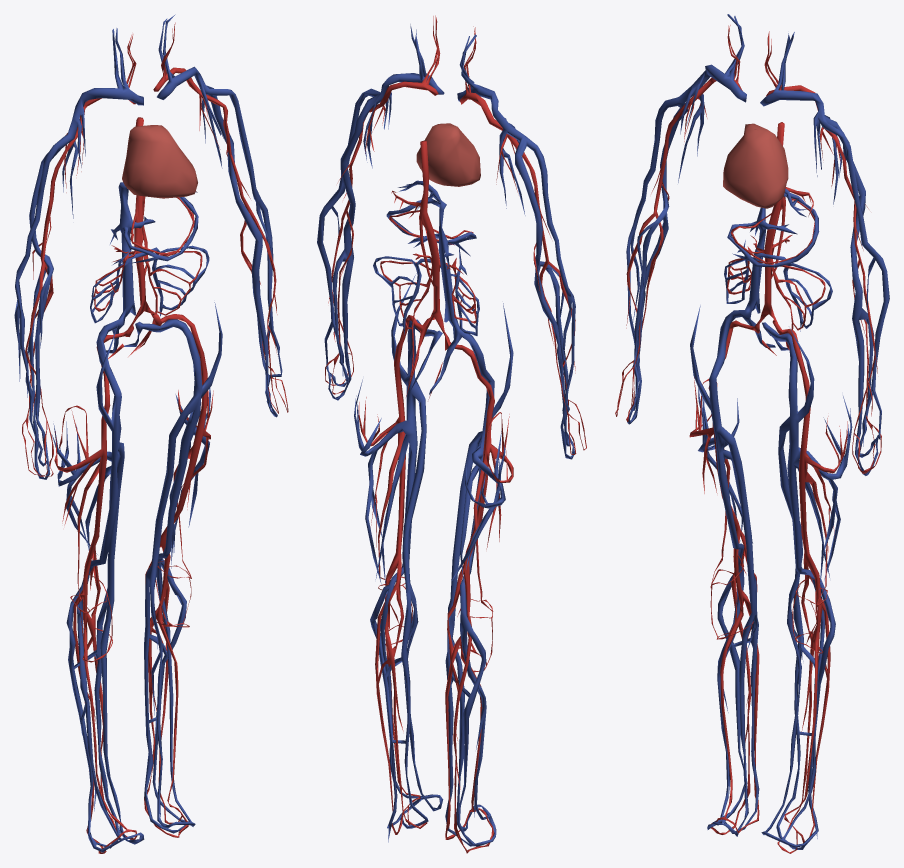
File: pediatric_child_10y_male.cardiovascular.LOD3.glb
3 views of the same model, side by side, from view 1: azimuth 30°, elevation 25°; view 2: azimuth 150°, elevation 25°; view 3: azimuth 330°, elevation 25° (orthographic).
Parts seen in each view (by area): view 1: PEDIATRIC.CHILD_10Y.MALE.CARDIOVASCULAR.BLOOD_IN_LARGE_VEINS, PEDIATRIC.CHILD_10Y.MALE.CARDIOVASCULAR.BLOOD_IN_LARGE_ARTER, PEDIATRIC.CHILD_10Y.MALE.CARDIOVASCULAR.HEART_WALL; view 2: PEDIATRIC.CHILD_10Y.MALE.CARDIOVASCULAR.BLOOD_IN_LARGE_VEINS, PEDIATRIC.CHILD_10Y.MALE.CARDIOVASCULAR.BLOOD_IN_LARGE_ARTER, PEDIATRIC.CHILD_10Y.MALE.CARDIOVASCULAR.HEART_WALL; view 3: PEDIATRIC.CHILD_10Y.MALE.CARDIOVASCULAR.BLOOD_IN_LARGE_VEINS, PEDIATRIC.CHILD_10Y.MALE.CARDIOVASCULAR.BLOOD_IN_LARGE_ARTER, PEDIATRIC.CHILD_10Y.MALE.CARDIOVASCULAR.HEART_WALL.
Boxes of the visible parts, left/top/right/bottom form: PEDIATRIC.CHILD_10Y.MALE.CARDIOVASCULAR.BLOOD_IN_LARGE_VEINS: left=14, top=14, right=282, bottom=852; PEDIATRIC.CHILD_10Y.MALE.CARDIOVASCULAR.BLOOD_IN_LARGE_ARTER: left=22, top=22, right=288, bottom=853; PEDIATRIC.CHILD_10Y.MALE.CARDIOVASCULAR.HEART_WALL: left=122, top=125, right=197, bottom=198; PEDIATRIC.CHILD_10Y.MALE.CARDIOVASCULAR.BLOOD_IN_LARGE_VEINS: left=317, top=24, right=575, bottom=846; PEDIATRIC.CHILD_10Y.MALE.CARDIOVASCULAR.BLOOD_IN_LARGE_ARTER: left=325, top=15, right=586, bottom=853; PEDIATRIC.CHILD_10Y.MALE.CARDIOVASCULAR.HEART_WALL: left=416, top=123, right=480, bottom=186; PEDIATRIC.CHILD_10Y.MALE.CARDIOVASCULAR.BLOOD_IN_LARGE_VEINS: left=626, top=14, right=889, bottom=849; PEDIATRIC.CHILD_10Y.MALE.CARDIOVASCULAR.BLOOD_IN_LARGE_ARTER: left=615, top=25, right=881, bottom=853; PEDIATRIC.CHILD_10Y.MALE.CARDIOVASCULAR.HEART_WALL: left=723, top=123, right=788, bottom=208.
Size of the model in its own units: 0.4057 by 1.24 by 0.1473.
